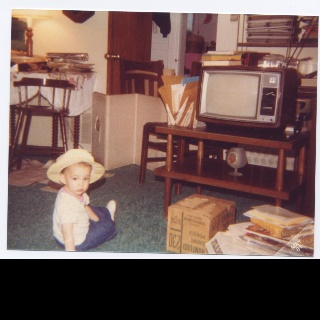without_mask: (63, 166, 92, 195)
